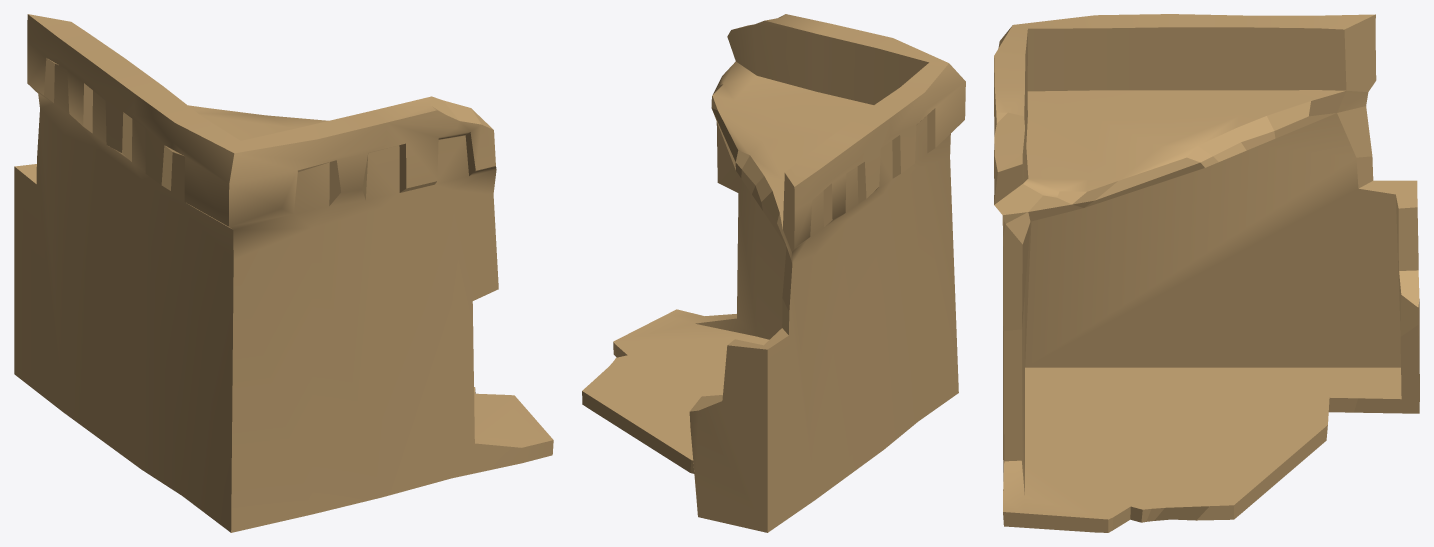
The model's file is Ruins_Building_01.fbx.
The picture shows the model from 3 angles, left to right: view 1: azimuth 30°, elevation 25°; view 2: azimuth 150°, elevation 25°; view 3: azimuth 270°, elevation 25°; orthographic projection. The views are drawn at different scales.
Visible parts, largest first — view 1: Building_01_Broke_02; view 2: Building_01_Broke_02; view 3: Building_01_Broke_02.
Boxes of the visible parts, x1,y1,x2,y2 form: Building_01_Broke_02: (14, 14, 553, 532); Building_01_Broke_02: (582, 14, 965, 532); Building_01_Broke_02: (994, 14, 1419, 532).
Size of the model in its own units: 462 by 480 by 516.
